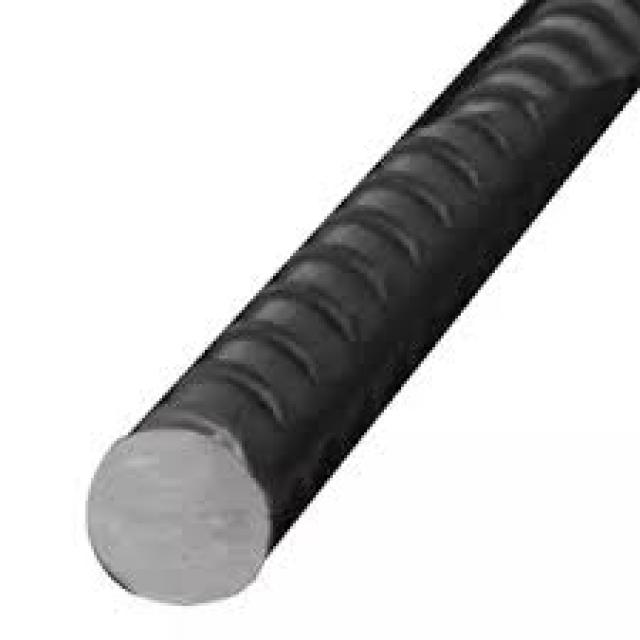Rebar: (75, 432, 269, 615)
